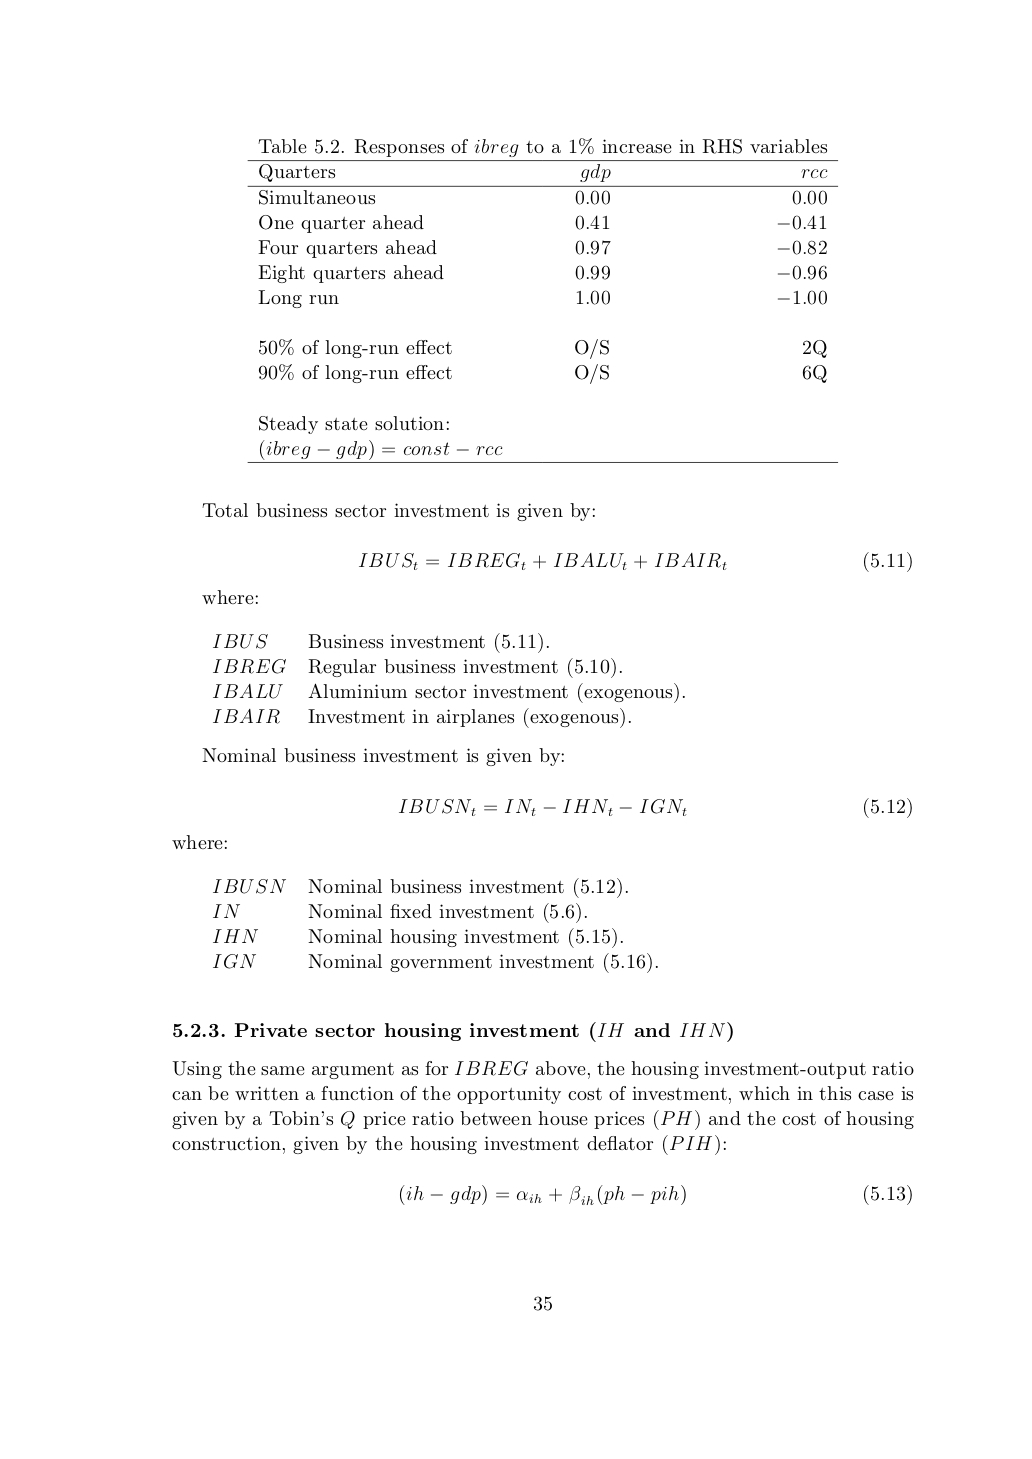Table: (247, 160, 838, 462)
formula: (359, 551, 911, 572), (398, 797, 911, 818), (400, 1184, 911, 1204)
